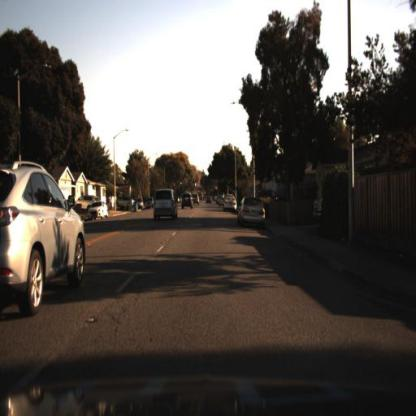car: (3, 159, 89, 318), (236, 193, 267, 227), (310, 188, 334, 228), (153, 187, 180, 219), (89, 201, 111, 221), (222, 193, 238, 214), (179, 193, 195, 213), (114, 194, 134, 208), (132, 198, 146, 215), (144, 194, 156, 210), (206, 195, 215, 204)
